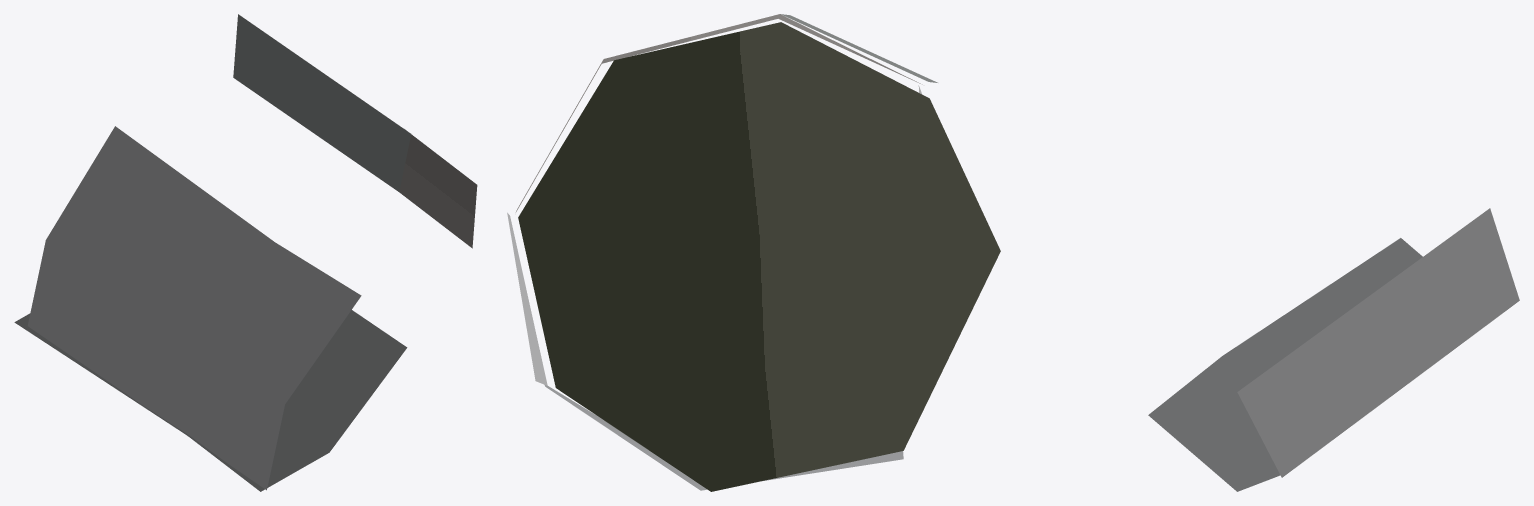
Rendered from tile_LOD3_r2_c0.glb.
3 views of the same model, side by side, from view 1: azimuth 30°, elevation 25°; view 2: azimuth 150°, elevation 25°; view 3: azimuth 270°, elevation 25° (orthographic). The views are drawn at different scales.
Bounding box in the file's own units: 16.5 × 15.75 × 16.5.
5 materials, 3 textured.
